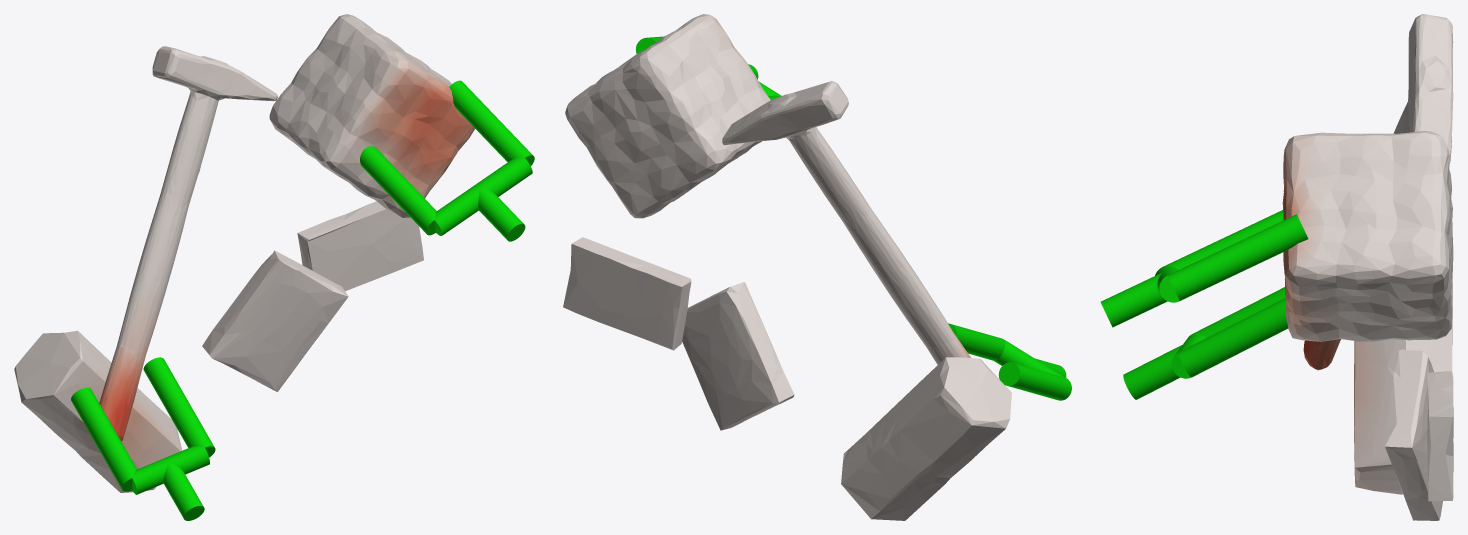
Rendered from round_000_trial_001.obj.
The picture shows the model from 3 angles, left to right: view 1: azimuth 30°, elevation 25°; view 2: azimuth 150°, elevation 25°; view 3: azimuth 270°, elevation 25°; orthographic projection. The views are drawn at different scales.
Parts seen in each view (by area): view 1: geometry_0, geometry_2, geometry_1; view 2: geometry_0, geometry_1; view 3: geometry_0, geometry_2, geometry_1.
Boxes of the visible parts, box(x1,y1,x2,y2) form: geometry_0: box(14, 14, 474, 492); geometry_2: box(360, 80, 534, 241); geometry_1: box(71, 357, 215, 520); geometry_0: box(563, 14, 1011, 520); geometry_1: box(948, 323, 1071, 400); geometry_0: box(1282, 14, 1453, 520); geometry_2: box(1100, 210, 1308, 327); geometry_1: box(1123, 287, 1288, 399).
Bounding box in the file's own units: 0.2085 × 0.1996 × 0.1235.
